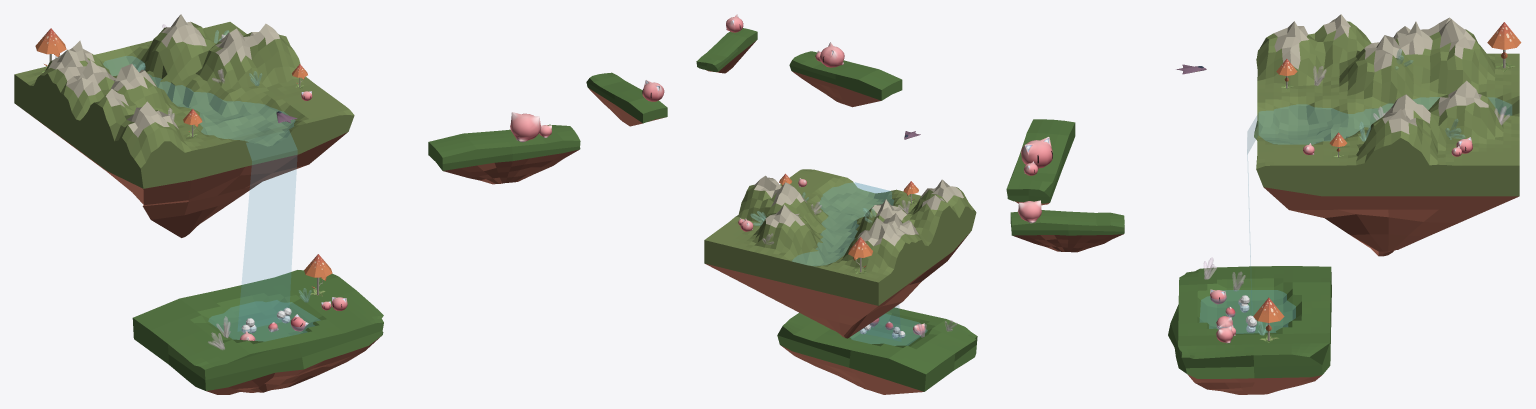
Rendered from DGA2013-Vincianne_Scerri-Alien_Landscape.glb.
3 renders of one model, left to right at view 1: azimuth 30°, elevation 25°; view 2: azimuth 150°, elevation 25°; view 3: azimuth 270°, elevation 25°, orthographic. The views are drawn at different scales.
Parts seen in each view (by area): view 1: Cube.001; view 2: Cube.001; view 3: Cube.001.
Boxes of the visible parts, left/top/right/bottom form: Cube.001: left=14, top=14, right=667, bottom=394; Cube.001: left=696, top=14, right=977, bottom=394; Cube.001: left=1006, top=14, right=1521, bottom=394.
Size of the model in its own units: 31.89 by 22.82 by 32.01.
16 materials, 4 textured.
